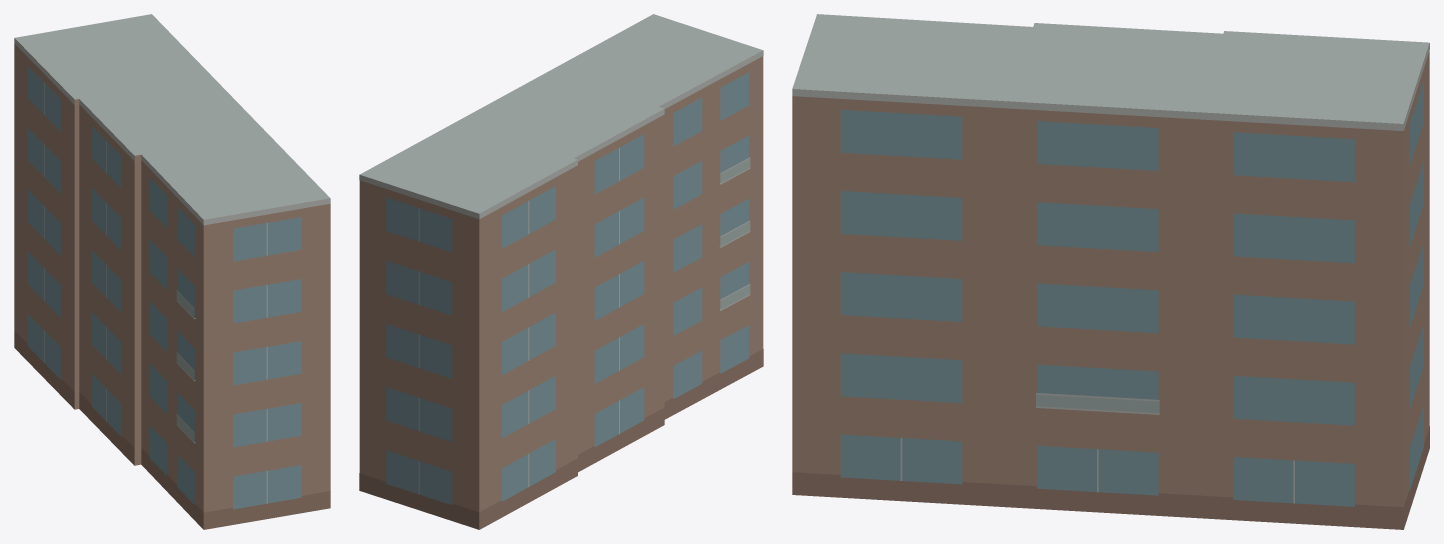
File: survey-upis-32532506.glb
3 views of the same model, side by side, from view 1: azimuth 30°, elevation 25°; view 2: azimuth 150°, elevation 25°; view 3: azimuth 270°, elevation 25° (orthographic). The views are drawn at different scales.
Visible parts, largest first — view 1: survey-upis-32532506.tmp; view 2: survey-upis-32532506.tmp; view 3: survey-upis-32532506.tmp.
Boxes of the visible parts, <box> form: survey-upis-32532506.tmp: <box>14,14,330,529</box>; survey-upis-32532506.tmp: <box>359,14,763,529</box>; survey-upis-32532506.tmp: <box>792,14,1429,529</box>.
Size of the model in its own units: 8.11 by 13.93 by 19.84.
